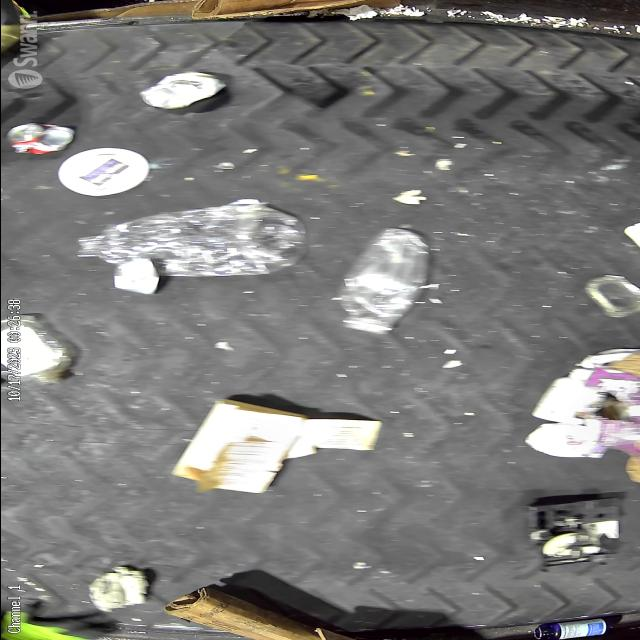can: (140, 71, 228, 109), (4, 122, 78, 156)
plastic_bottle: (75, 199, 306, 277), (332, 226, 432, 332)
